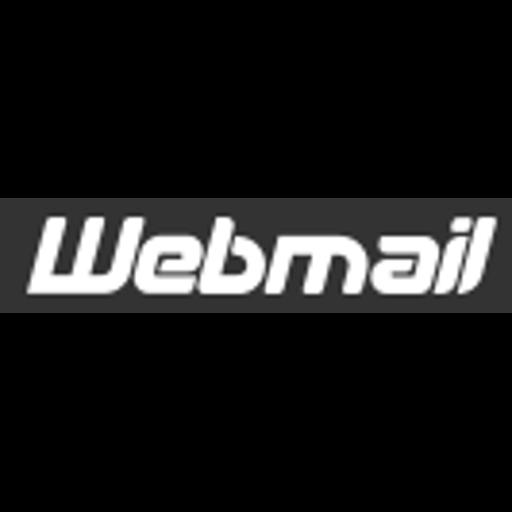Webmail Provider: (0, 198, 512, 313)
